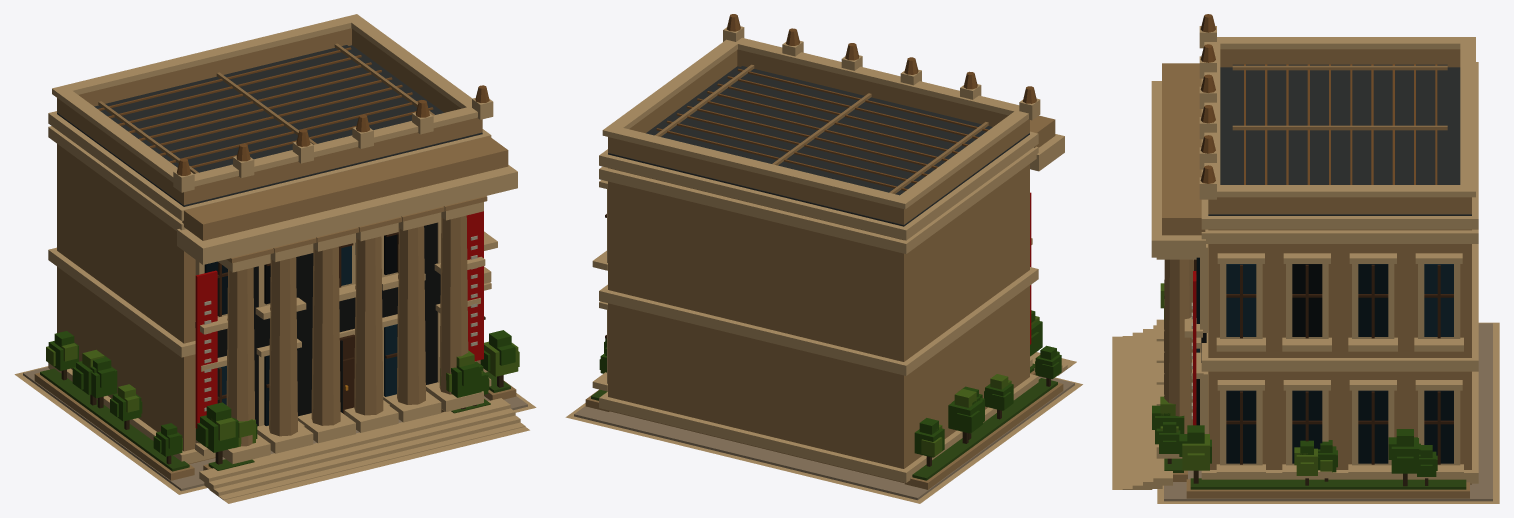
File: SM_Mapa_013.fbx
3 renders of one model, left to right at view 1: azimuth 30°, elevation 25°; view 2: azimuth 150°, elevation 25°; view 3: azimuth 270°, elevation 25°, orthographic. The views are drawn at different scales.
Visible parts, largest first — view 1: SM_Mapa_013; view 2: SM_Mapa_013; view 3: SM_Mapa_013.
Boxes of the visible parts, <box> form: SM_Mapa_013: <box>14,14,536,503</box>; SM_Mapa_013: <box>565,14,1082,503</box>; SM_Mapa_013: <box>1112,14,1499,503</box>.
Size of the model in its own units: 24 by 21.52 by 19.73.
